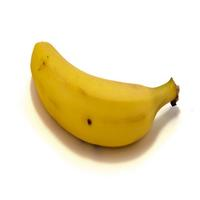banane: (27, 31, 187, 155)
